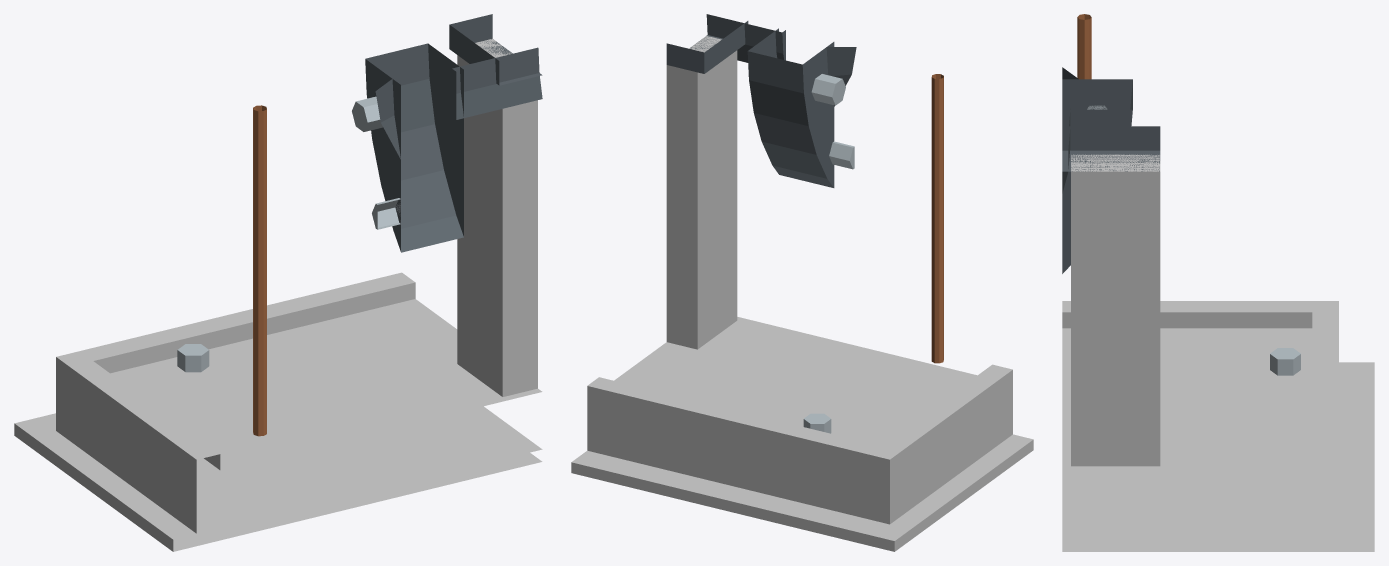
File: cell_0.obj
3 views of the same model, side by side, from view 1: azimuth 30°, elevation 25°; view 2: azimuth 150°, elevation 25°; view 3: azimuth 270°, elevation 25° (orthographic). The views are drawn at different scales.
Bounding box in the file's own units: 0.94 × 1 × 0.7.
